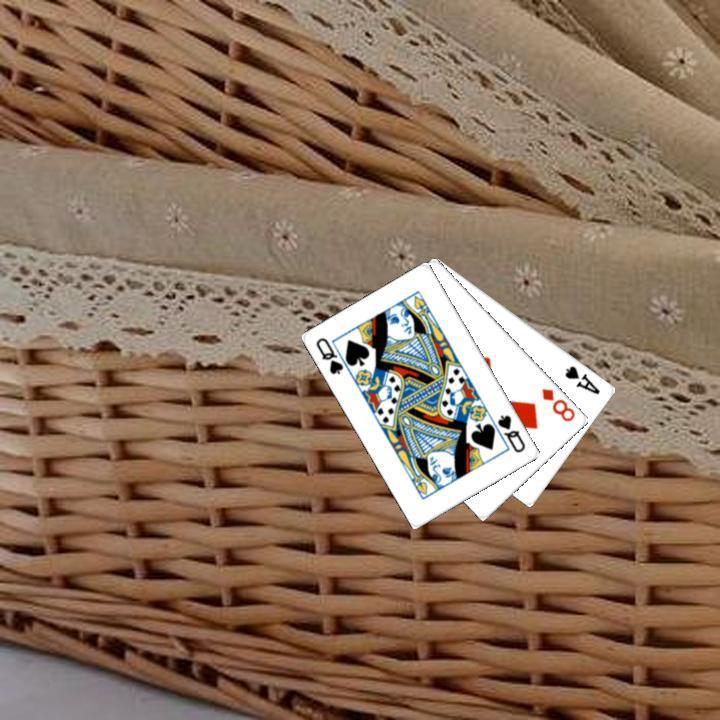8: (537, 384, 578, 424)
A: (561, 361, 602, 396)
Q: (493, 410, 528, 455), (312, 333, 346, 377)
